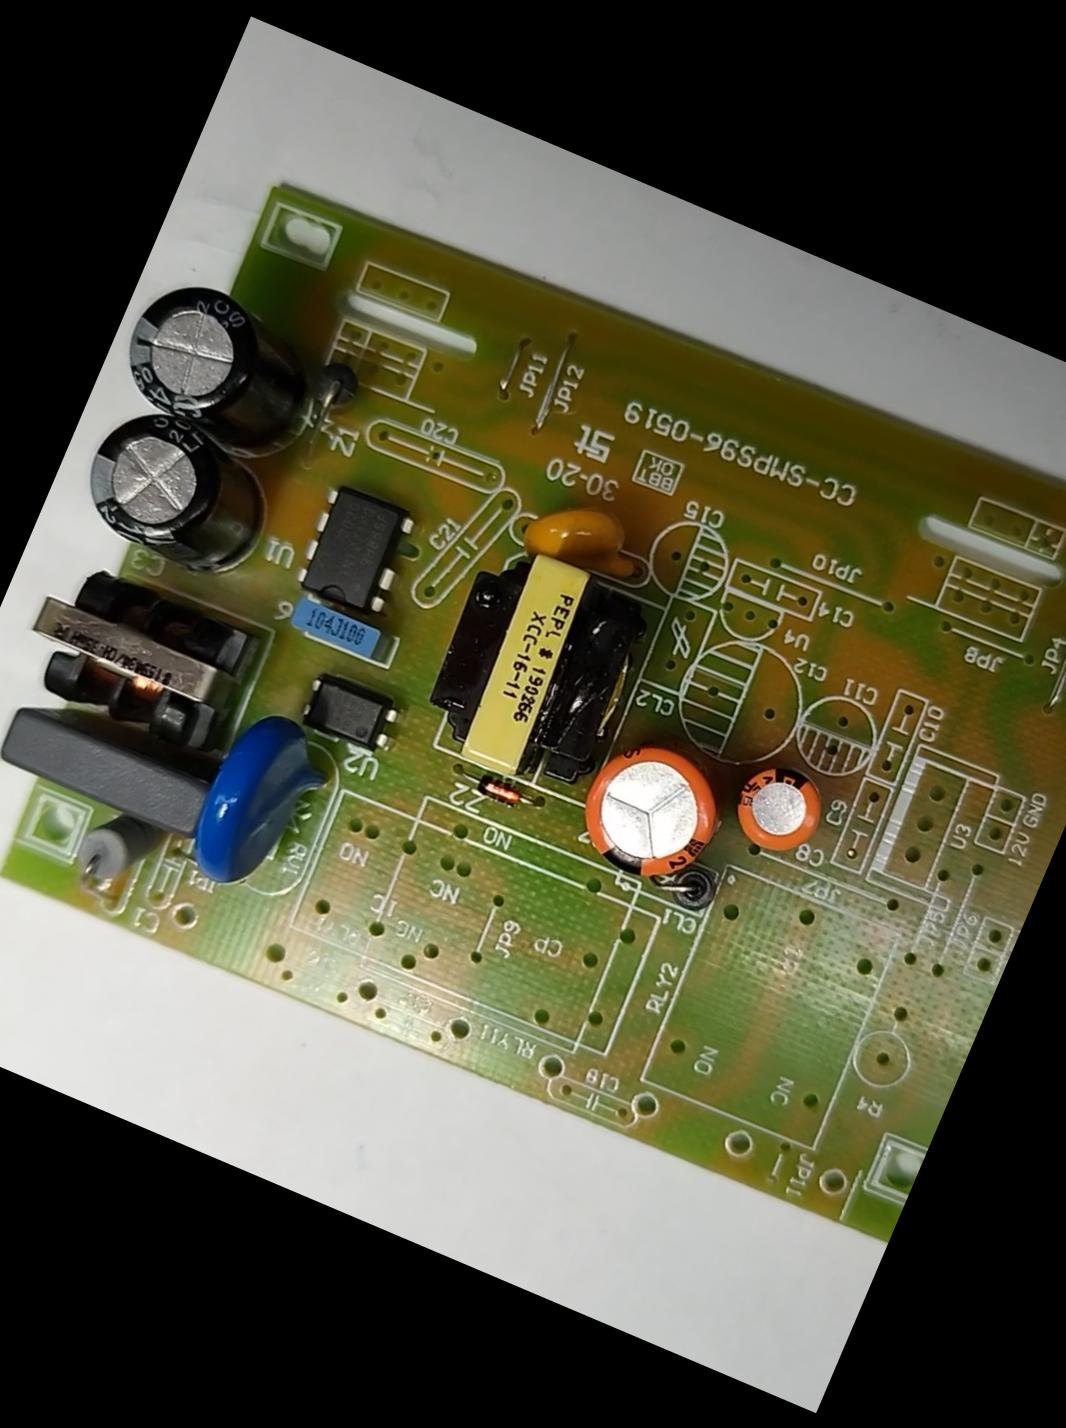Cap1: (558, 725, 745, 904)
Cap2: (724, 755, 836, 859)
Cap3: (71, 395, 288, 589)
Cap4: (105, 265, 329, 461)
MOSFET: (289, 479, 418, 614)
Mov: (174, 697, 343, 916)
Resistor: (59, 800, 171, 908)
Transformer: (402, 528, 658, 808), (3, 543, 273, 769)
